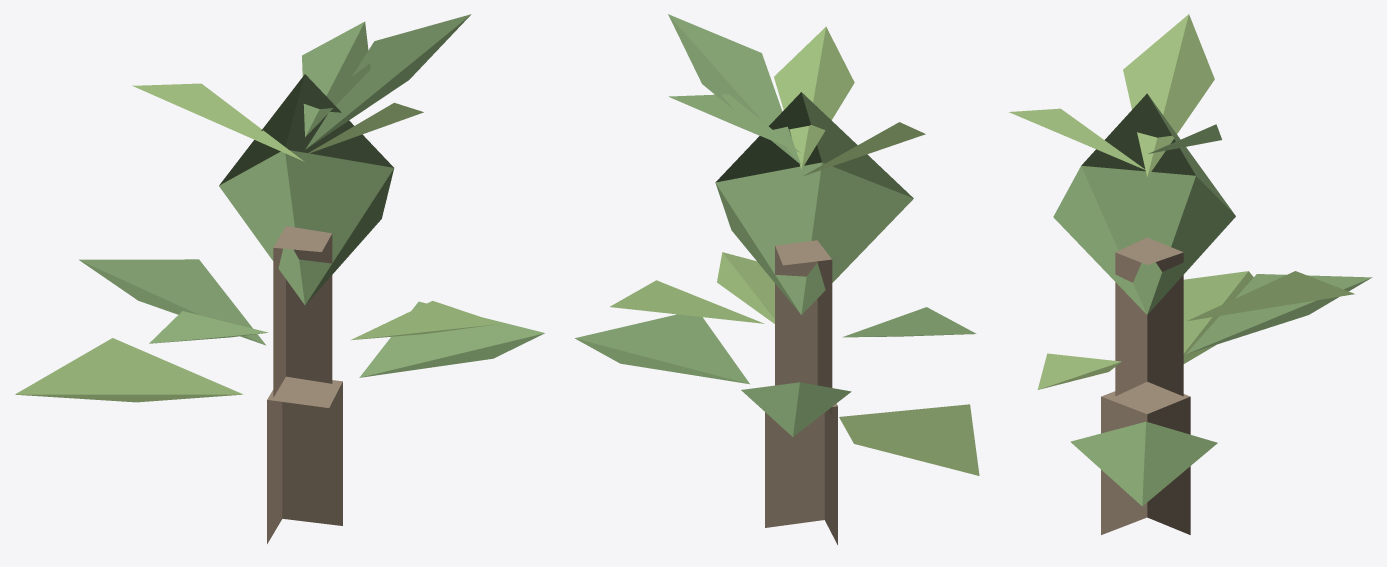
File: guan.zhen@seedling__bloom.glb
3 views of the same model, side by side, from view 1: azimuth 30°, elevation 25°; view 2: azimuth 150°, elevation 25°; view 3: azimuth 270°, elevation 25° (orthographic). The views are drawn at different scales.
Parts seen in each view (by area): view 1: guan.zhen@seedling__bloom; view 2: guan.zhen@seedling__bloom; view 3: guan.zhen@seedling__bloom.
Part boxes in pixels (left/top/right/bottom): guan.zhen@seedling__bloom: left=15, top=14, right=544, bottom=543; guan.zhen@seedling__bloom: left=575, top=14, right=979, bottom=544; guan.zhen@seedling__bloom: left=1009, top=14, right=1372, bottom=534.
Bounding box in the file's own units: 0.1933 × 0.1921 × 0.1339.
